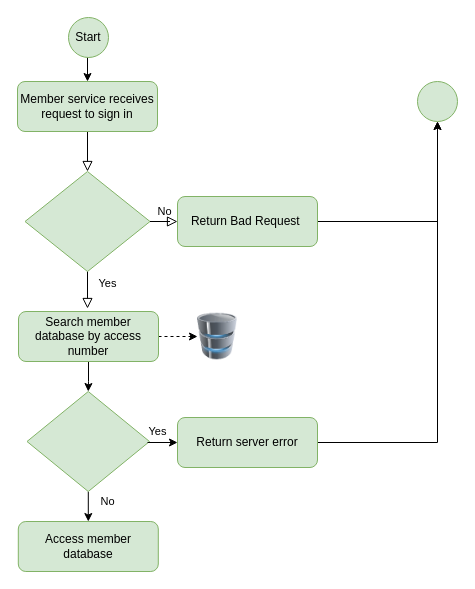
This 475x589 diagram has some shape labels left out. The shapes that lost their labels are listed below. From the top down, each one's box as (x1, y1, x2, y2) in pixels, then its label:
(416, 80, 458, 122): End
(24, 170, 150, 272): Do fields match required formats?
(26, 390, 150, 492): Is the Database Down?
